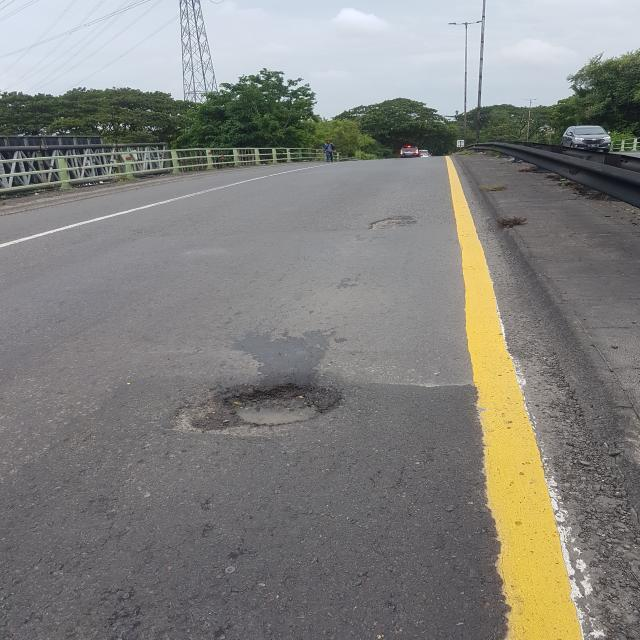Buraco: (167, 380, 346, 442), (367, 216, 404, 232)
